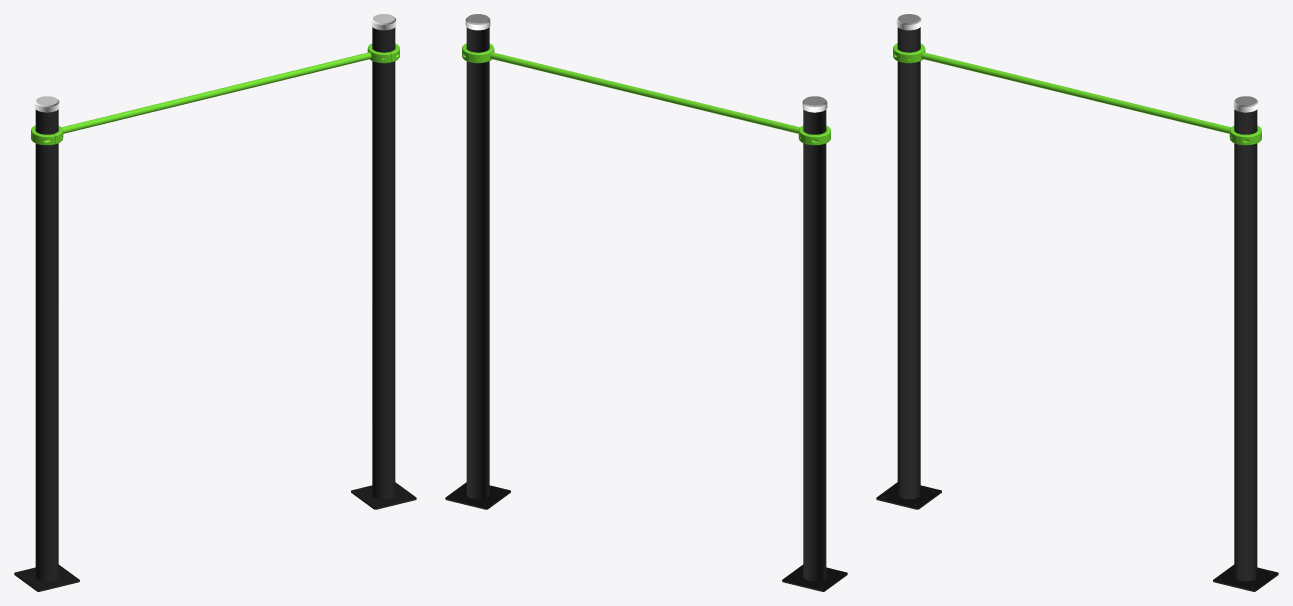
Rendered from egyenes_rud_1900.glb.
3 renders of one model, left to right at view 1: azimuth 30°, elevation 25°; view 2: azimuth 150°, elevation 25°; view 3: azimuth 330°, elevation 25°, orthographic.
Parts seen in each view (by area): view 1: support.002, support.001, frame_Solid6; view 2: support.002, support.001, frame_Solid6; view 3: support.001, support.002, frame_Solid6.
Boxes of the visible parts, x1,y1,x2,y2 form: support.002: [14, 109, 79, 591]; support.001: [351, 27, 416, 509]; frame_Solid6: [62, 52, 371, 133]; support.002: [782, 109, 847, 591]; support.001: [445, 27, 510, 509]; frame_Solid6: [490, 52, 799, 133]; support.001: [1213, 109, 1278, 591]; support.002: [876, 27, 941, 509]; frame_Solid6: [921, 52, 1230, 133].
Bounding box in the file's own units: 1.89 × 2.27 × 0.2119.
